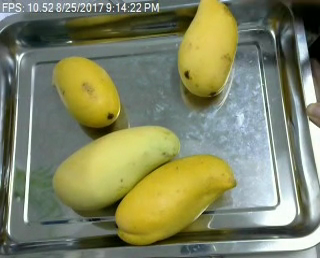Mango: (111, 152, 239, 246), (47, 123, 180, 213), (176, 0, 240, 105), (51, 55, 120, 127)
